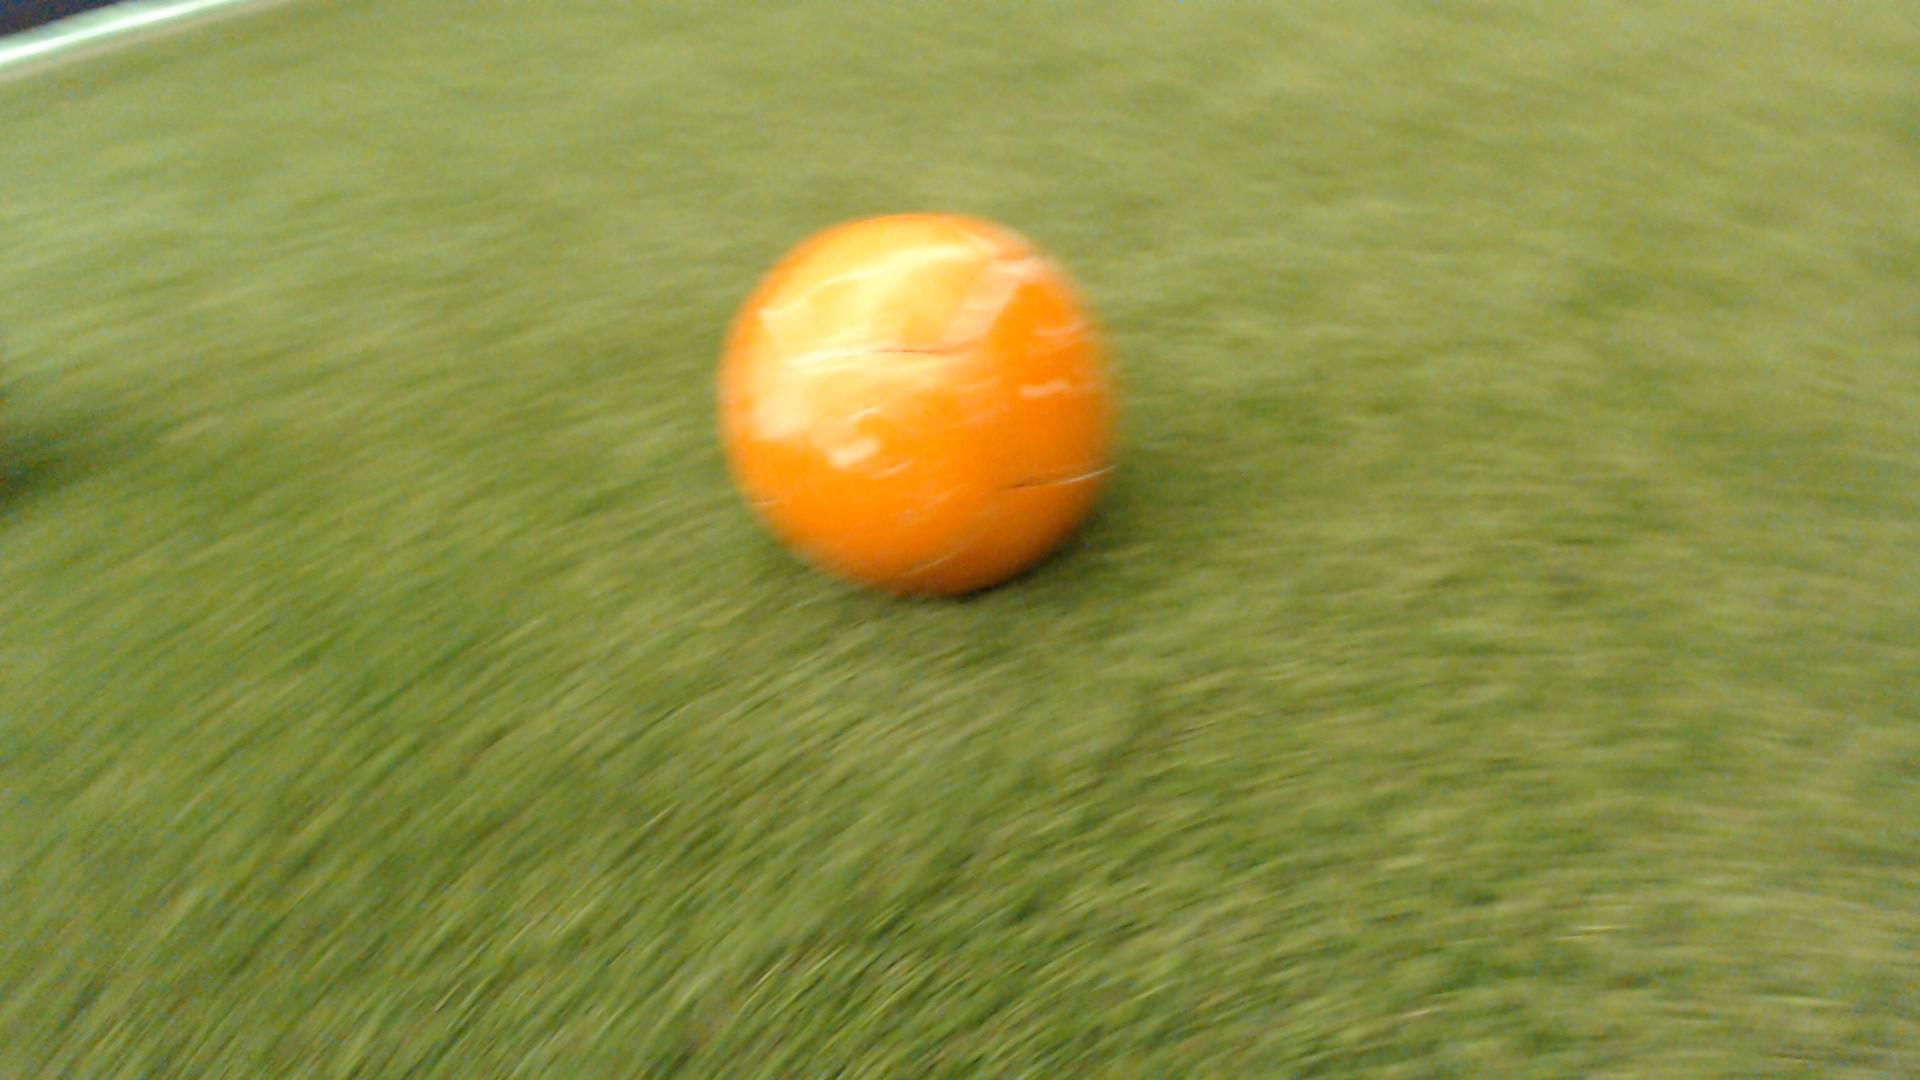bola: (695, 171, 1180, 615)
